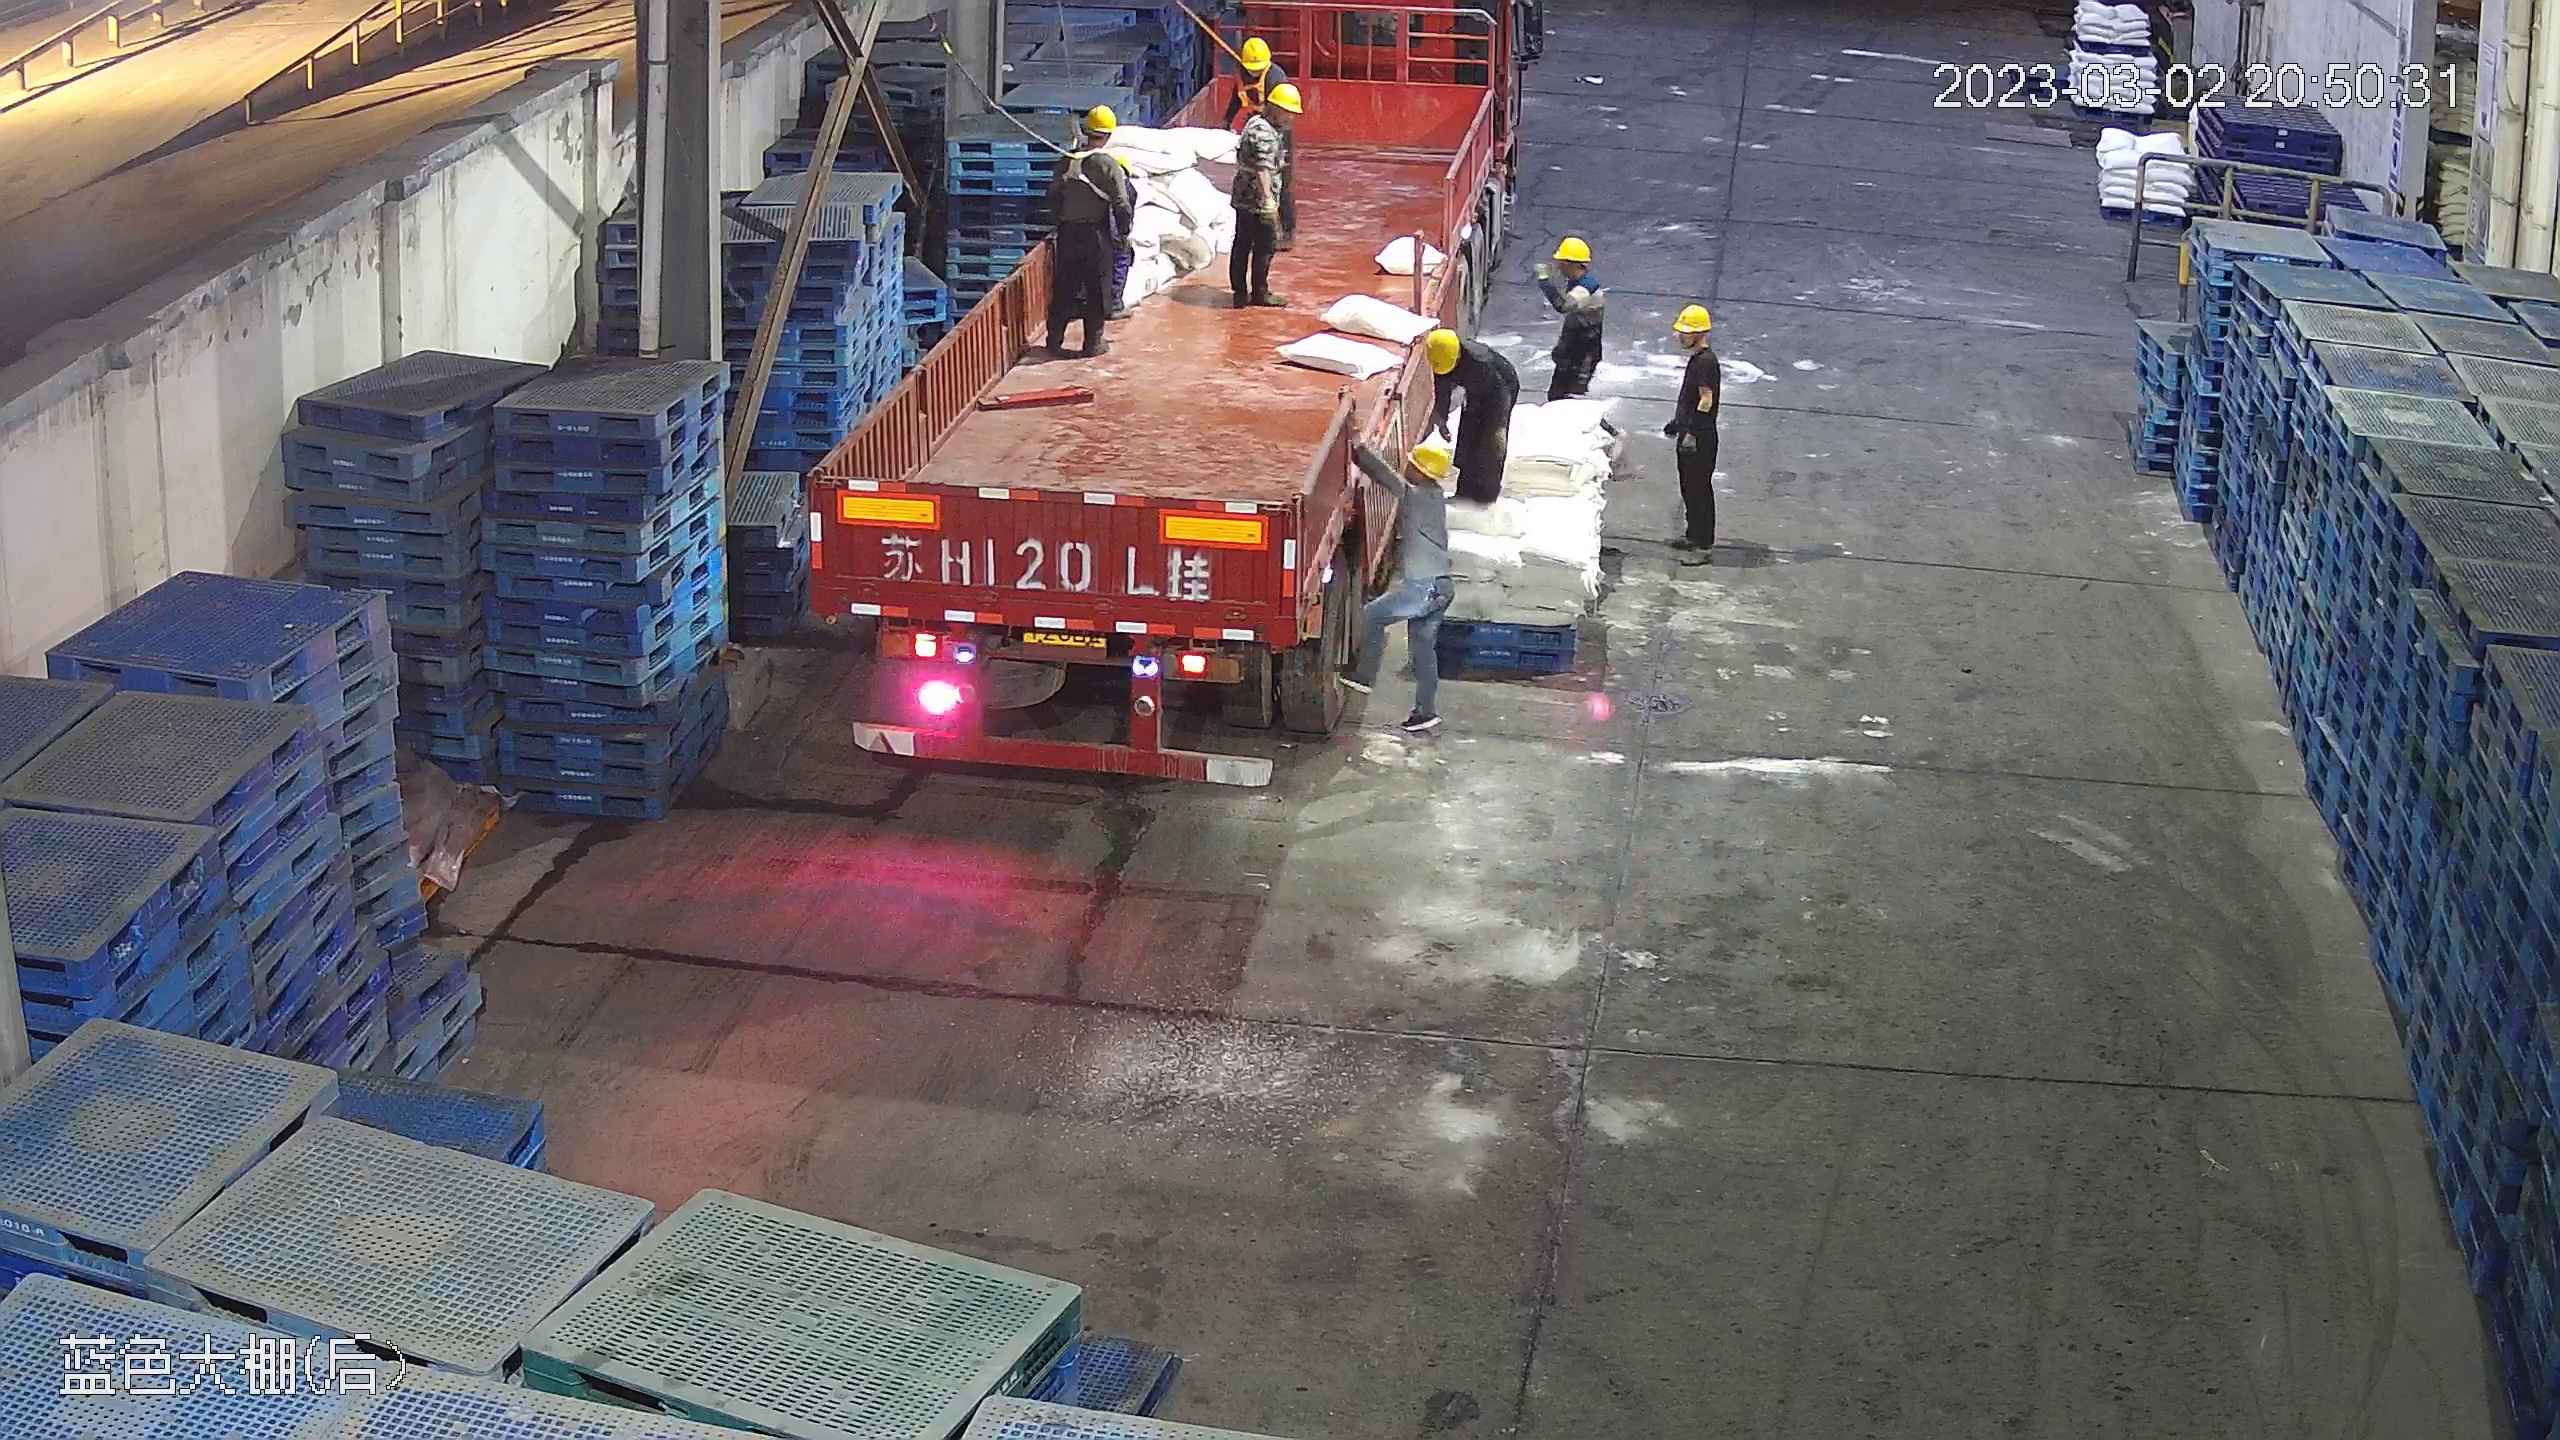belt: (1233, 123, 1286, 186), (1056, 138, 1112, 193), (1224, 70, 1273, 119)
head: (1411, 327, 1502, 400), (1386, 440, 1454, 530), (1053, 105, 1129, 180), (1214, 35, 1287, 105), (1230, 84, 1303, 155), (1670, 303, 1722, 388), (1545, 236, 1603, 303)
helmet: (1409, 439, 1453, 484), (1420, 326, 1460, 374), (1669, 303, 1714, 333), (1265, 84, 1304, 114), (1236, 35, 1272, 68), (1552, 236, 1591, 263), (1078, 103, 1116, 132)
people: (1366, 434, 1462, 745), (1041, 104, 1137, 357), (1405, 324, 1519, 500), (1223, 79, 1303, 306), (1662, 302, 1726, 559), (1537, 233, 1609, 407)
truck: (805, 16, 1524, 792)
